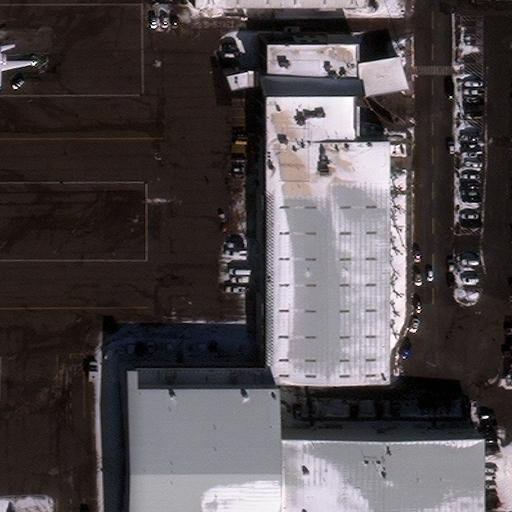Medium Civil Transport: (0, 44, 34, 91)
